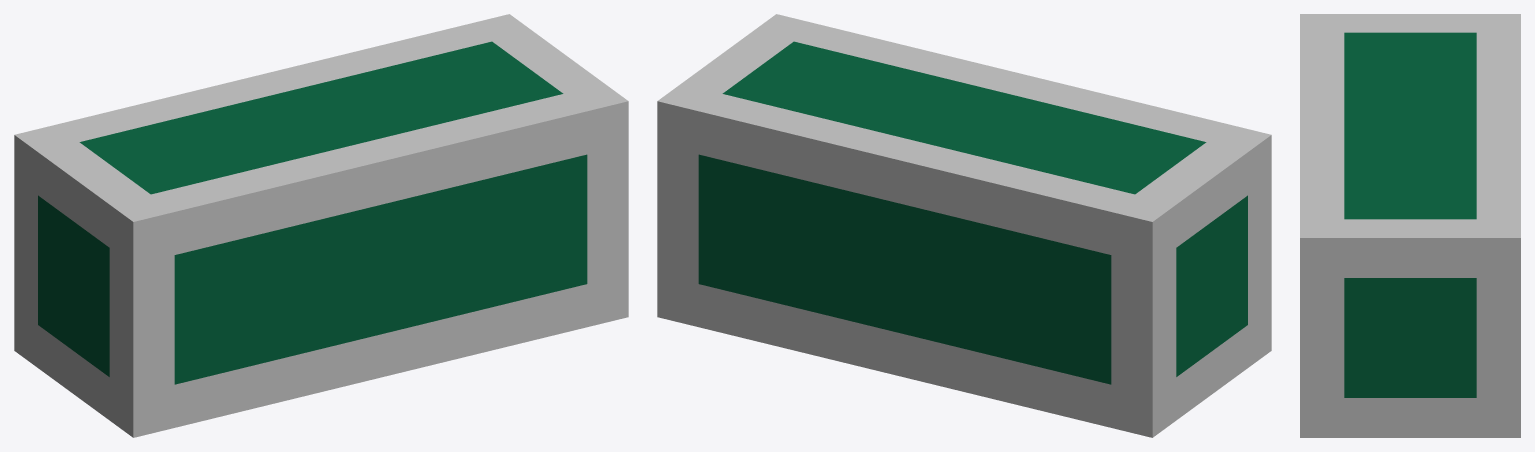
File: ConstructionMaterials-103.obj
3 renders of one model, left to right at view 1: azimuth 30°, elevation 25°; view 2: azimuth 150°, elevation 25°; view 3: azimuth 270°, elevation 25°, orthographic. The views are drawn at different scales.
Size of the model in its own units: 1.2 by 0.5 by 0.5.
Materials: 1 (1 with a texture image).
